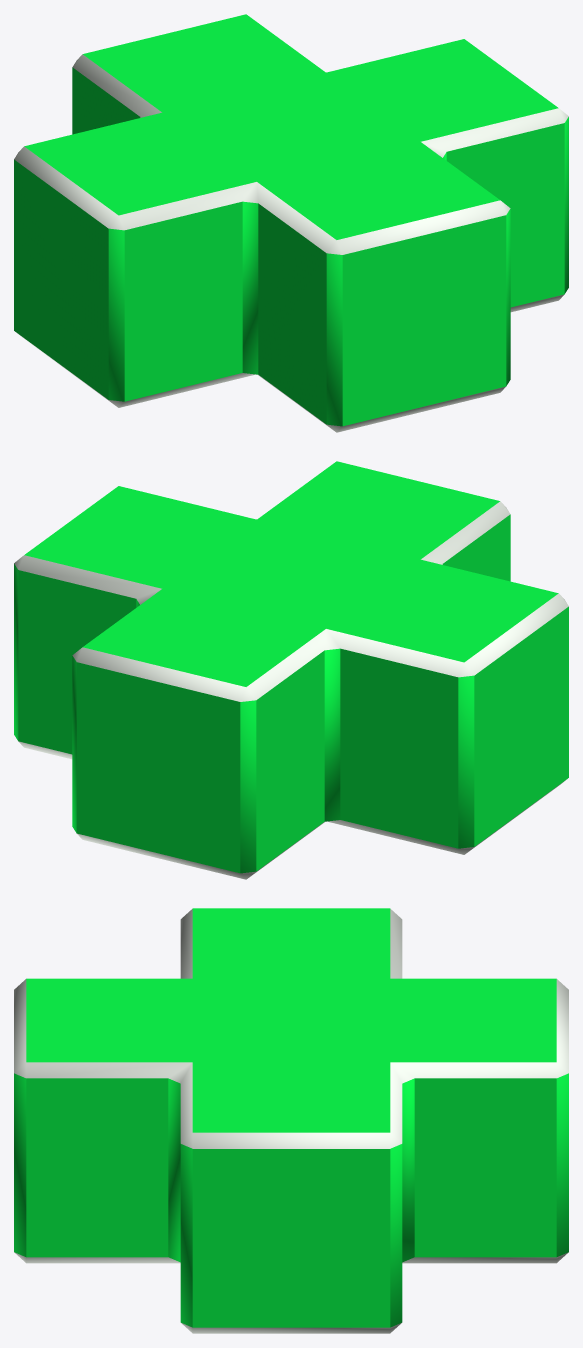
The model's file is health.fbx.
3 renders of one model, top to bottom at view 1: azimuth 30°, elevation 25°; view 2: azimuth 150°, elevation 25°; view 3: azimuth 270°, elevation 25°, orthographic. The views are drawn at different scales.
Visible parts, largest first — view 1: HELTH; view 2: HELTH; view 3: HELTH.
Boxes of the visible parts, left/top/right/bottom form: HELTH: left=14, top=14, right=568, bottom=432; HELTH: left=14, top=461, right=568, bottom=879; HELTH: left=14, top=908, right=568, bottom=1333.
Size of the model in its own units: 5.01 by 2 by 5.01.
